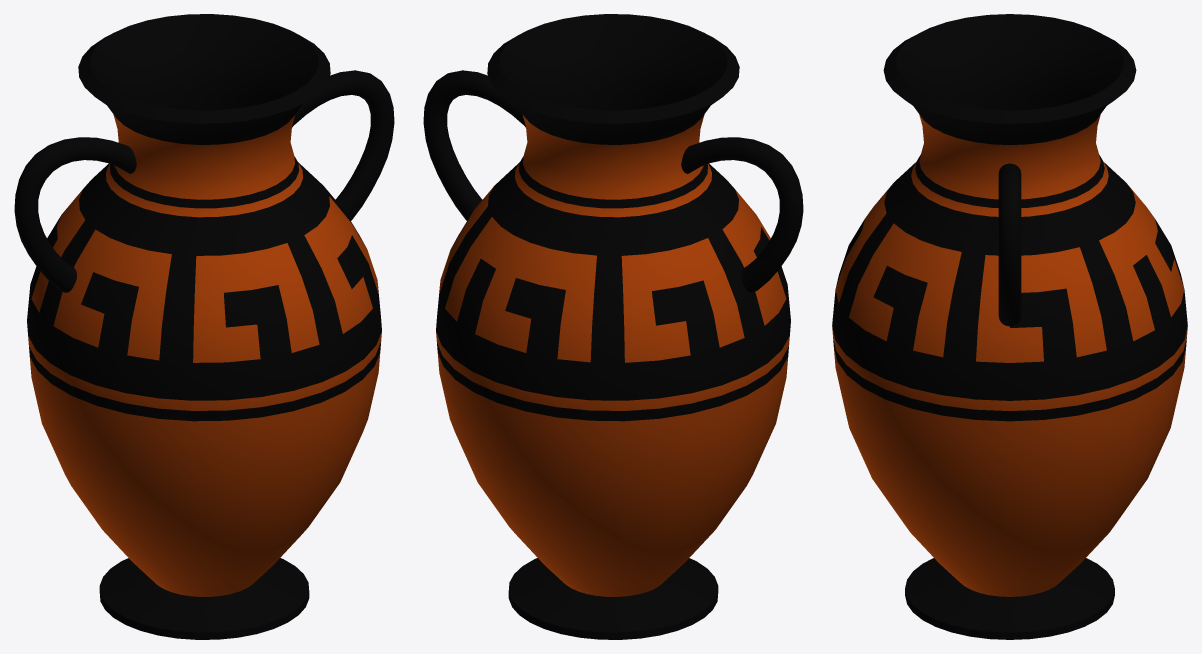
The model's file is amphora.glb.
3 renders of one model, left to right at view 1: azimuth 30°, elevation 25°; view 2: azimuth 150°, elevation 25°; view 3: azimuth 270°, elevation 25°, orthographic.
Visible parts, largest first — view 1: Sphere.505; view 2: Sphere.505; view 3: Sphere.505.
Boxes of the visible parts, x1=… form: Sphere.505: x1=14, y1=14, x2=394, y2=639; Sphere.505: x1=423, y1=14, x2=803, y2=639; Sphere.505: x1=832, y1=14, x2=1187, y2=639.
Size of the model in its own units: 1.47 by 1.98 by 1.2.
1 material, 1 textured.
